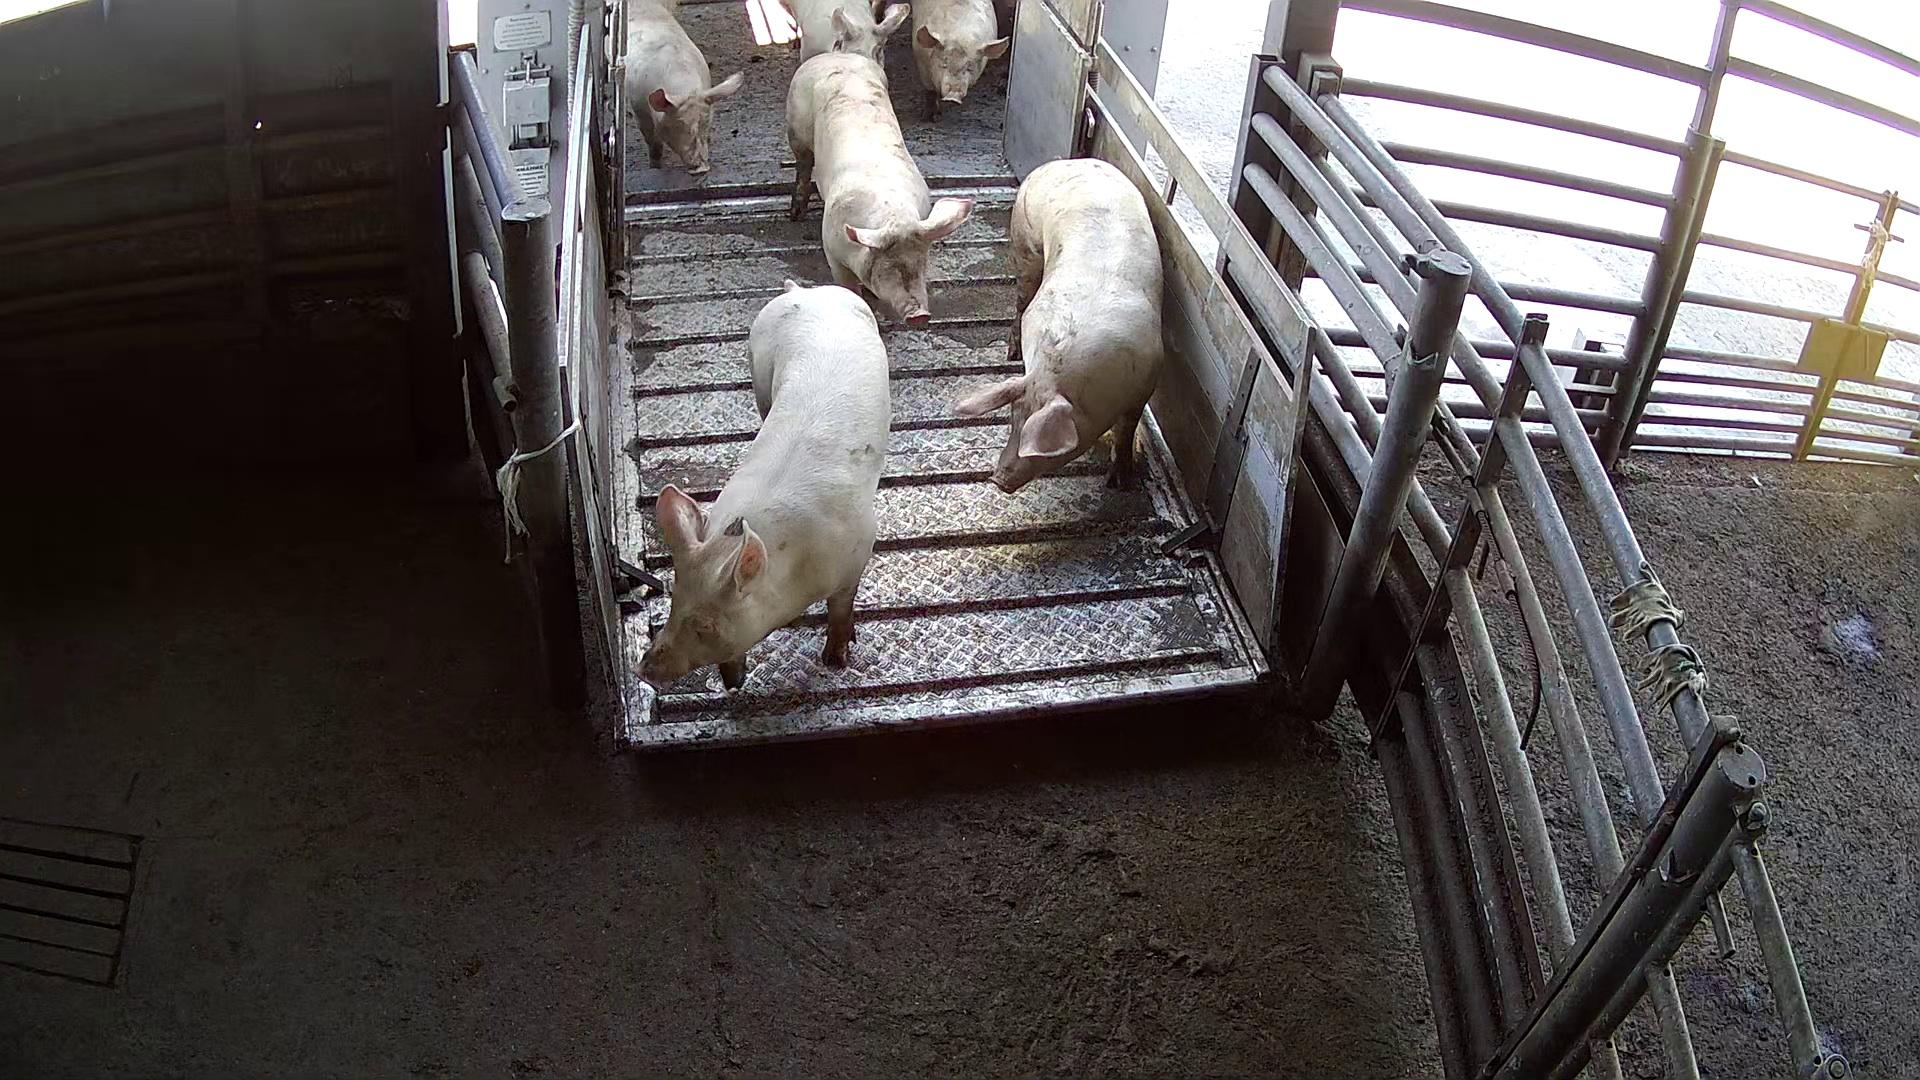Pig: (638, 285, 891, 687), (955, 157, 1164, 492), (787, 47, 972, 322), (625, 0, 742, 171), (913, 0, 1007, 115), (781, 0, 910, 66)
